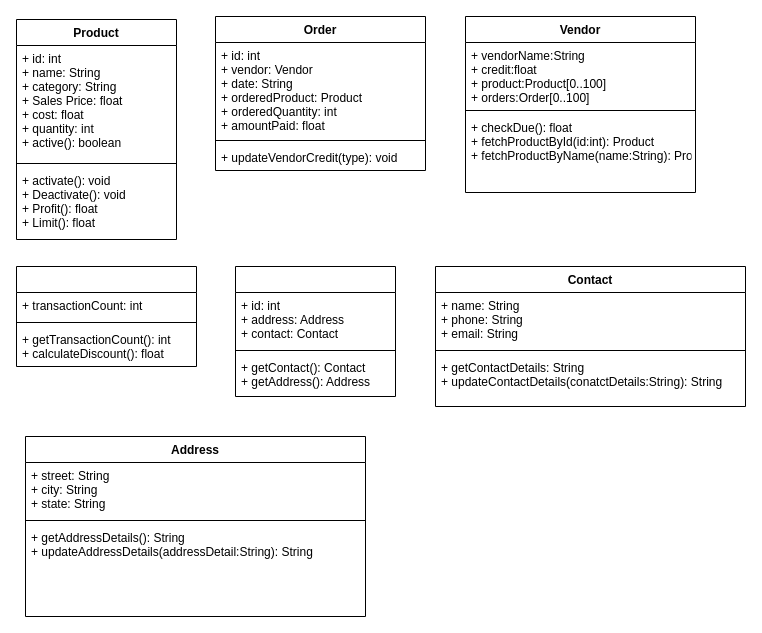
This 762x633 diagram has some shape labels left out. The shapes that lost their labels are listed below. From the top down, each one's box as (x1, y1, x2, y2) in pixels, then its label:
(16, 266, 196, 366): Customer
(234, 266, 396, 396): Buisness Partner
